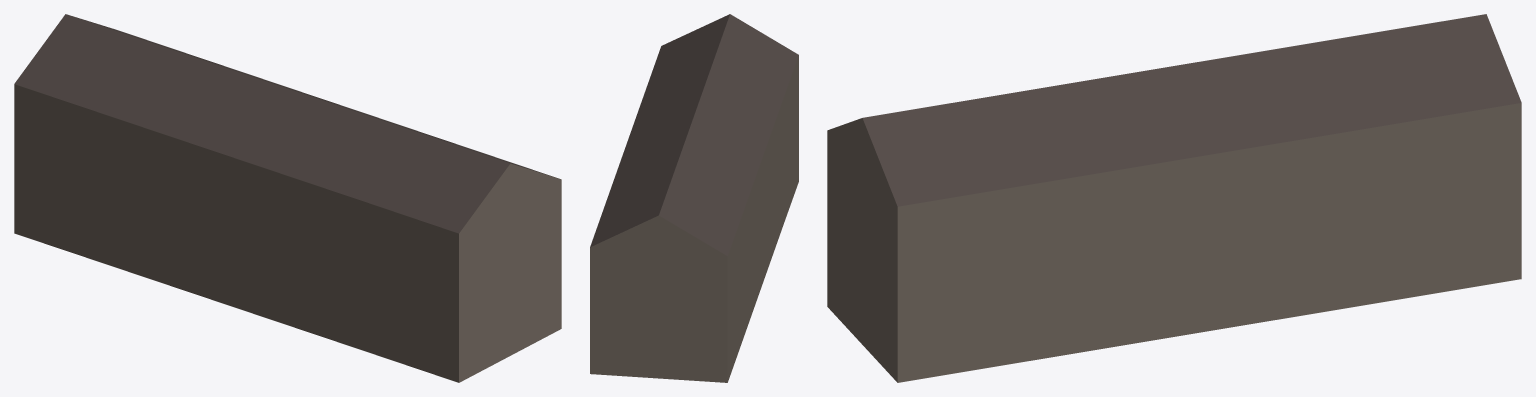
3 renders of one model, left to right at view 1: azimuth 30°, elevation 25°; view 2: azimuth 150°, elevation 25°; view 3: azimuth 270°, elevation 25°, orthographic. The views are drawn at different scales.
Parts seen in each view (by area): view 1: HP-w369317583; view 2: HP-w369317583; view 3: HP-w369317583.
Part boxes in pixels (x1,y1,x2,y2): HP-w369317583: (14,14,561,382); HP-w369317583: (590,14,798,382); HP-w369317583: (827,14,1521,382).
Bounding box in the file's own units: 13.16 × 7.73 × 21.43.
